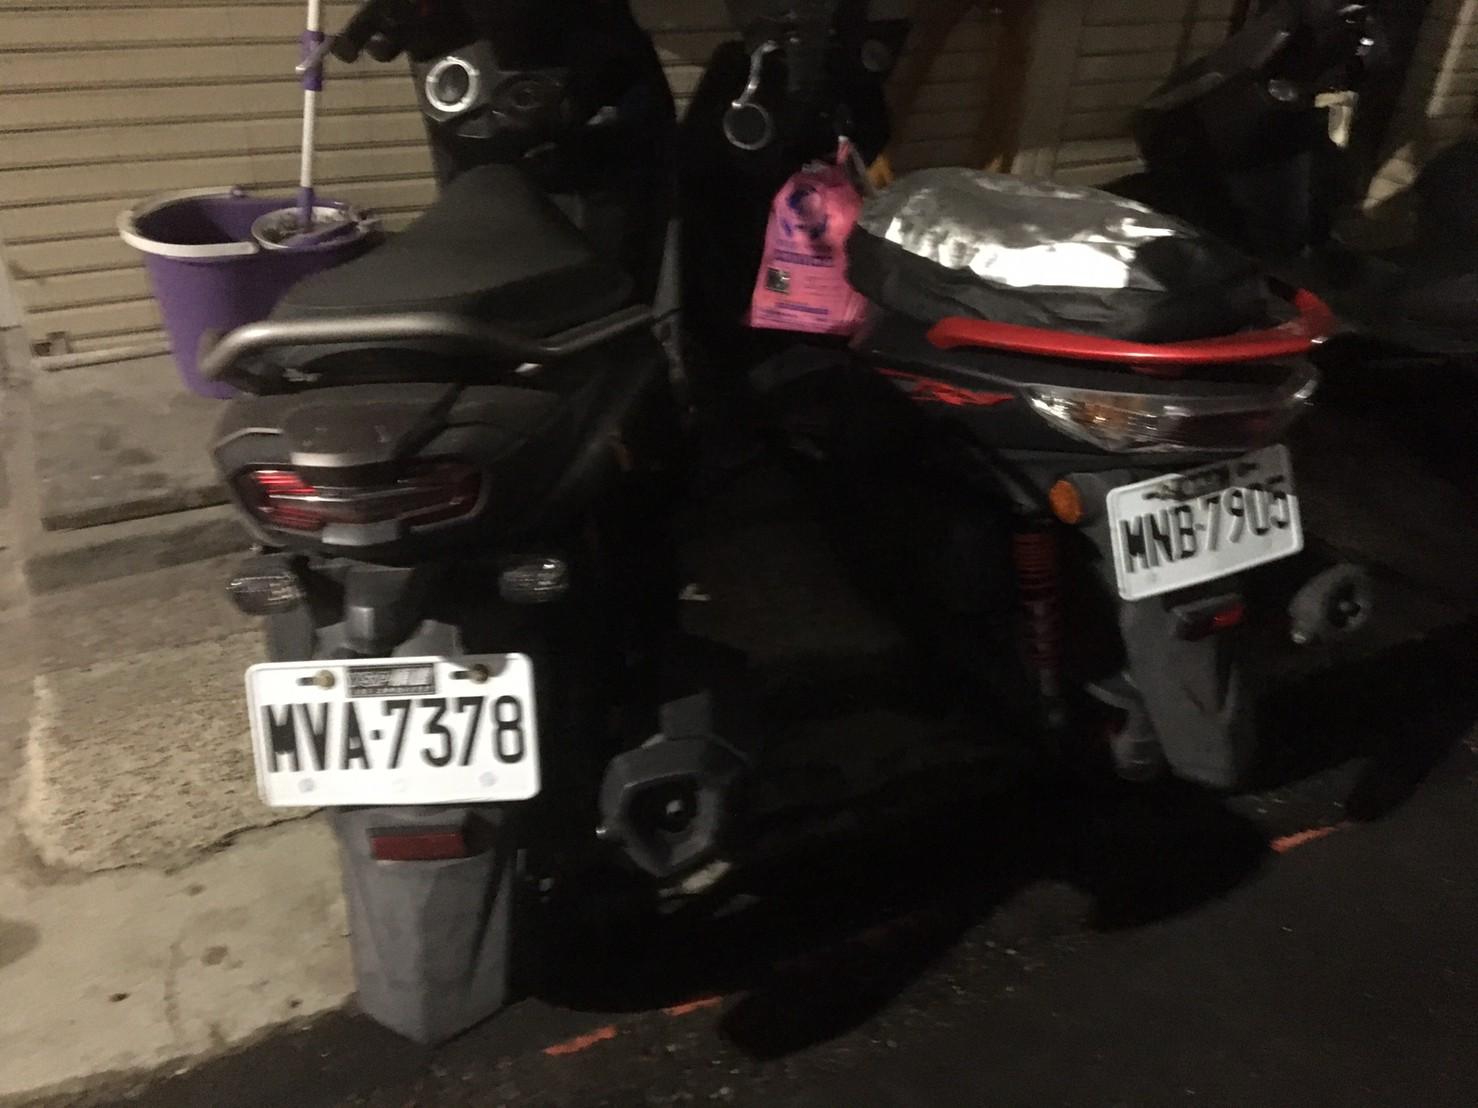LP: (247, 659, 540, 802), (1110, 457, 1296, 590)
